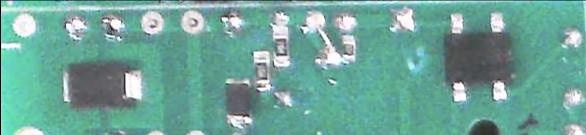chip-resistor: (270, 23, 290, 67), (252, 50, 270, 91), (339, 30, 358, 62)
diode: (58, 60, 148, 114), (220, 76, 252, 128)
ic: (441, 9, 511, 106)
